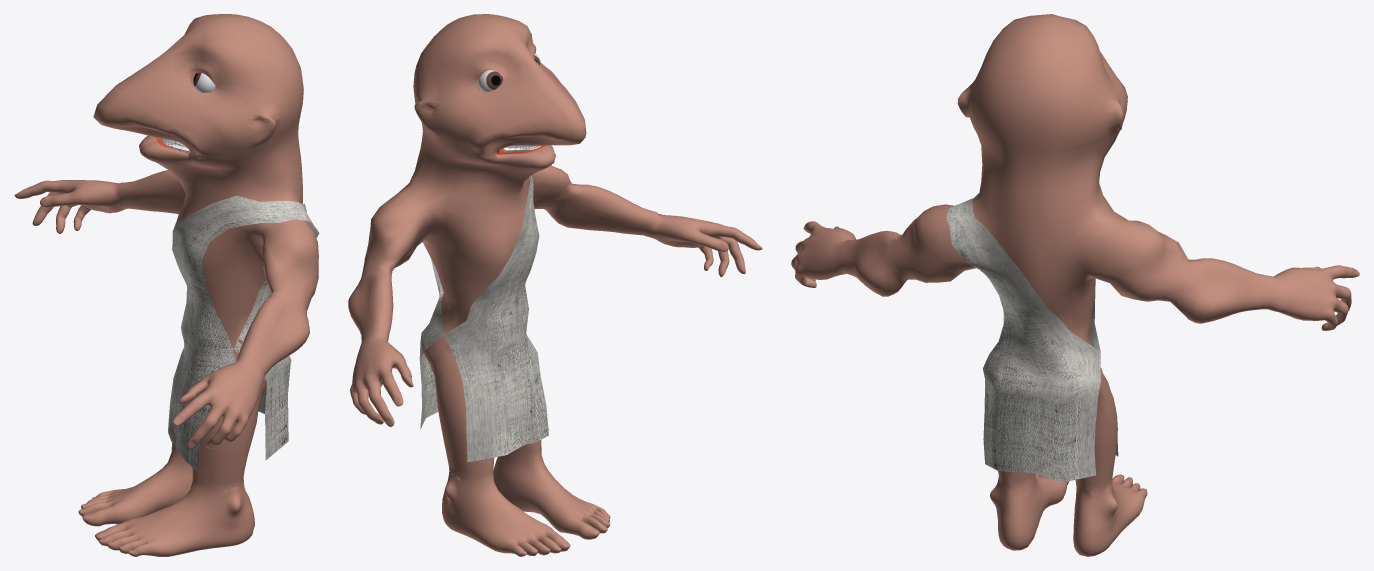
File: greek.glb
The picture shows the model from 3 angles, left to right: view 1: azimuth 30°, elevation 25°; view 2: azimuth 150°, elevation 25°; view 3: azimuth 270°, elevation 25°; orthographic projection. The views are drawn at different scales.
Parts seen in each view (by area): view 1: lowpoly.003, tunica.003; view 2: lowpoly.003, tunica.003; view 3: lowpoly.003, tunica.003.
Part boxes in pixels (left/top/right/bottom): lowpoly.003: left=14, top=14, right=318, bottom=556; tunica.003: left=168, top=195, right=319, bottom=472; lowpoly.003: left=348, top=14, right=762, bottom=556; tunica.003: left=419, top=175, right=548, bottom=462; lowpoly.003: left=791, top=14, right=1359, bottom=556; tunica.003: left=946, top=193, right=1118, bottom=482.
Bounding box in the file's own units: 4 × 7.99 × 7.77.
Materials: 7 (1 with a texture image).
